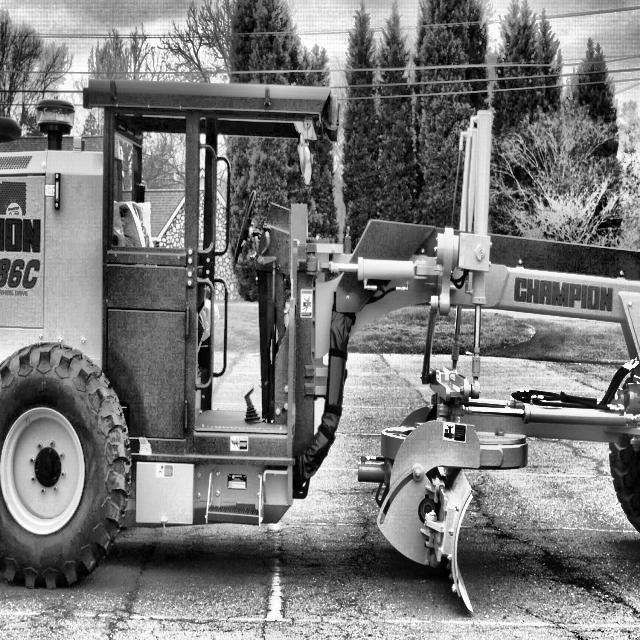buldozerpayloadergrader: (0, 33, 640, 631)
